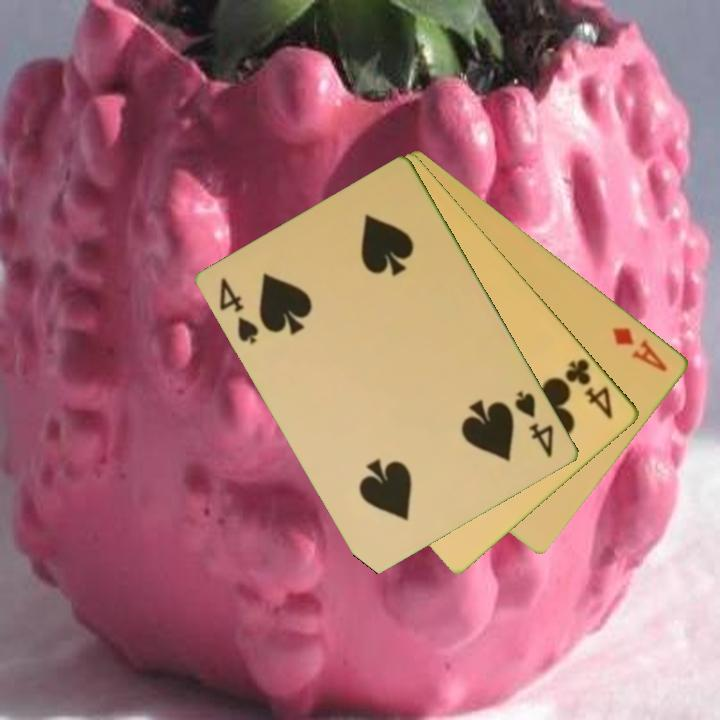4c: (562, 354, 617, 422)
4s: (511, 387, 558, 461), (216, 274, 263, 347)
Ad: (609, 323, 671, 375)
